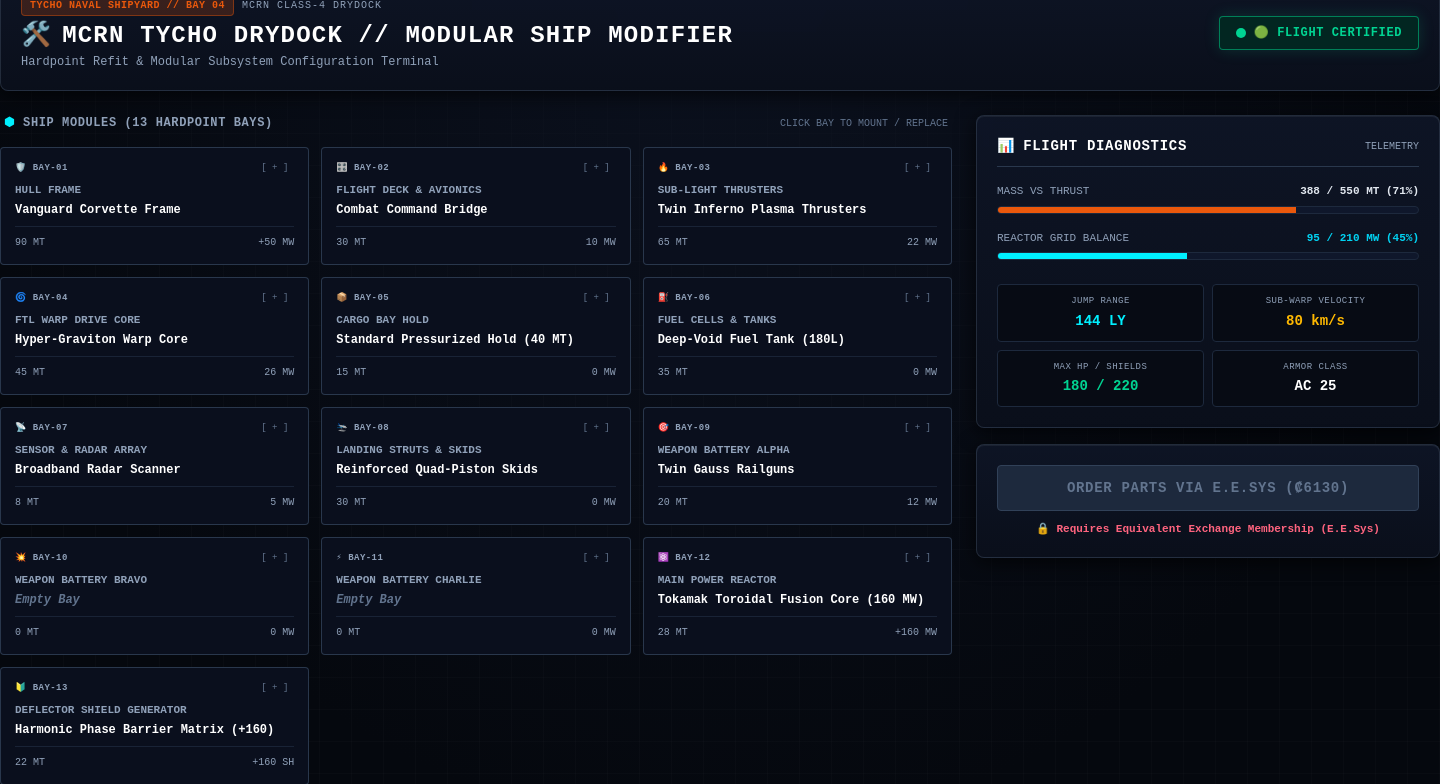
Test: ShipBuilder Component (Cyberpunk x The Expanse Drydock UI) › opens module selector drawer when clicking a hardpoint bay
Click the button "BAY-01": (155, 206) x1=0 y1=147 x2=309 y2=265
(page scrolled)
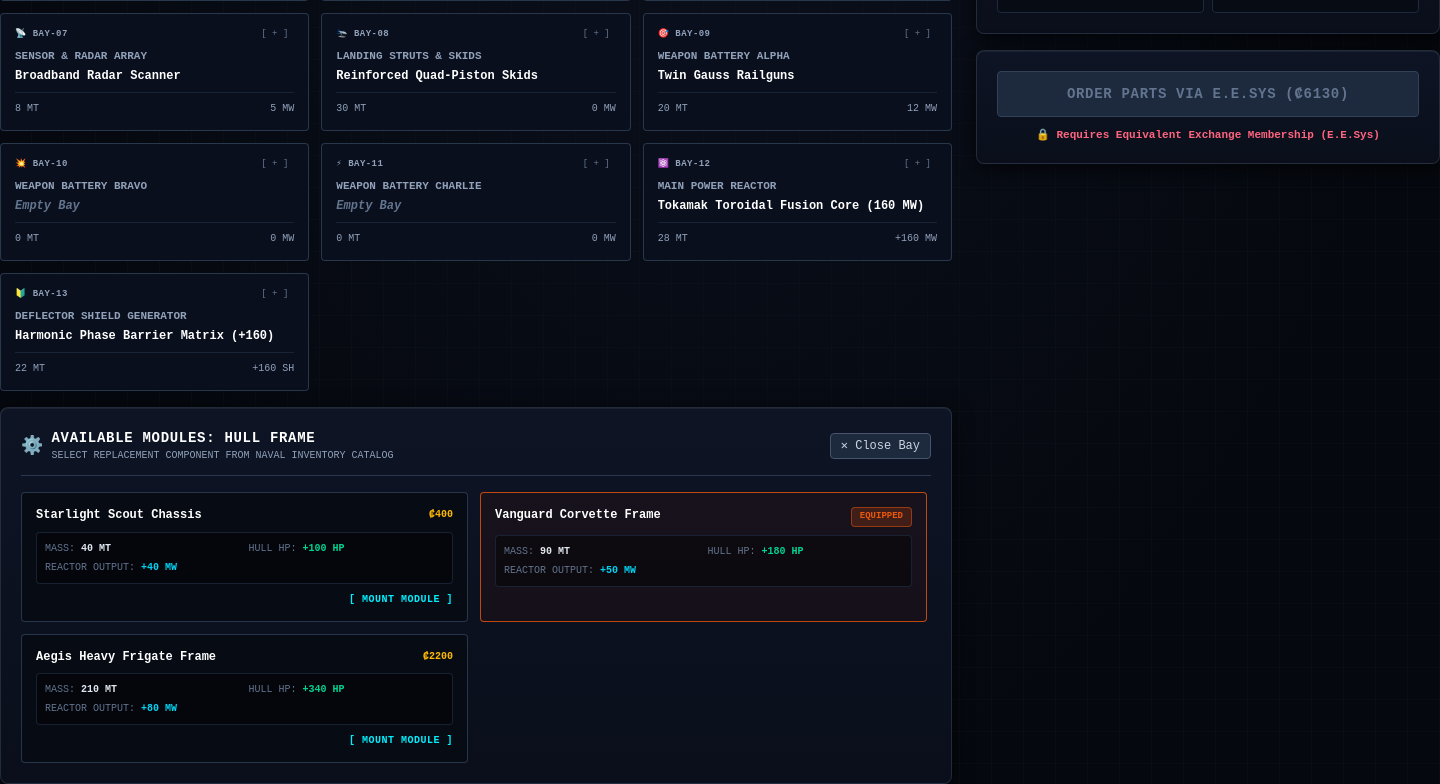
Expected: the heading "Available Modules: Hull Frame" is shown, x1=52 y1=430 x2=316 y2=446
Expected: the button "✕ Close Bay" is shown, x1=830 y1=432 x2=931 y2=458
Expected: the text "Aegis Heavy Frigate Frame" is shown, x1=36 y1=648 x2=216 y2=665
